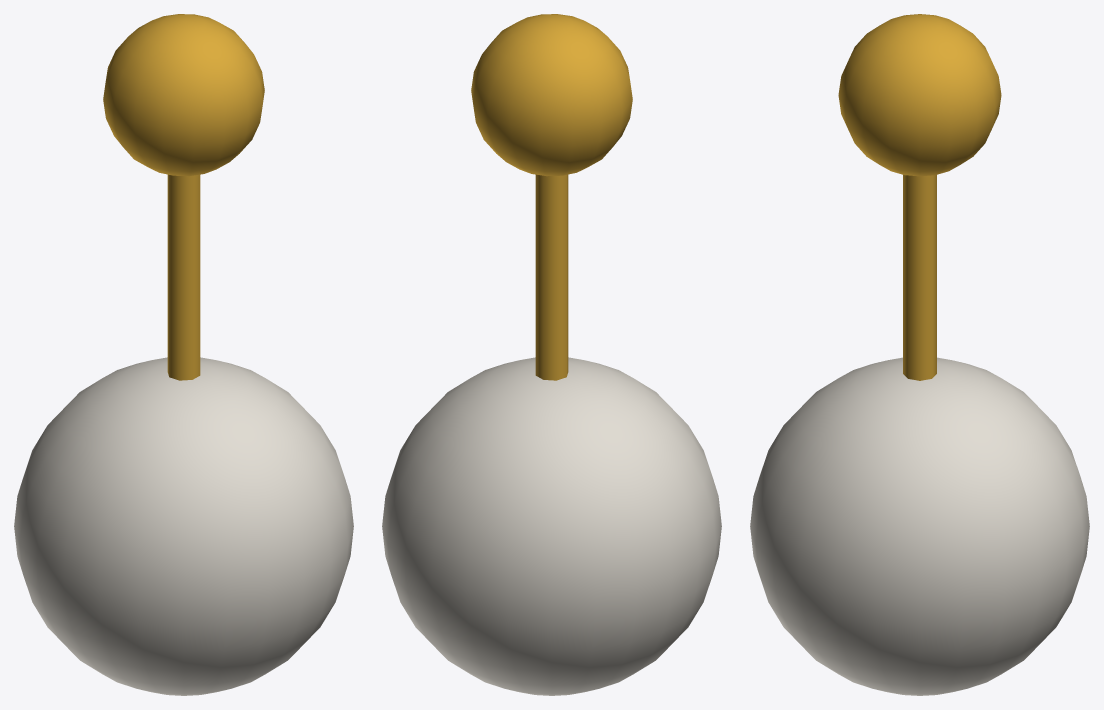
The model's file is earring.glb.
The picture shows the model from 3 angles, left to right: view 1: azimuth 30°, elevation 25°; view 2: azimuth 150°, elevation 25°; view 3: azimuth 270°, elevation 25°; orthographic projection.
Parts seen in each view (by area): view 1: earring; view 2: earring; view 3: earring.
Boxes of the visible parts, x1=… form: earring: x1=14, y1=14, x2=353, y2=695; earring: x1=382, y1=14, x2=721, y2=695; earring: x1=750, y1=14, x2=1089, y2=695.
Size of the model in its own units: 10 by 21.4 by 10.
